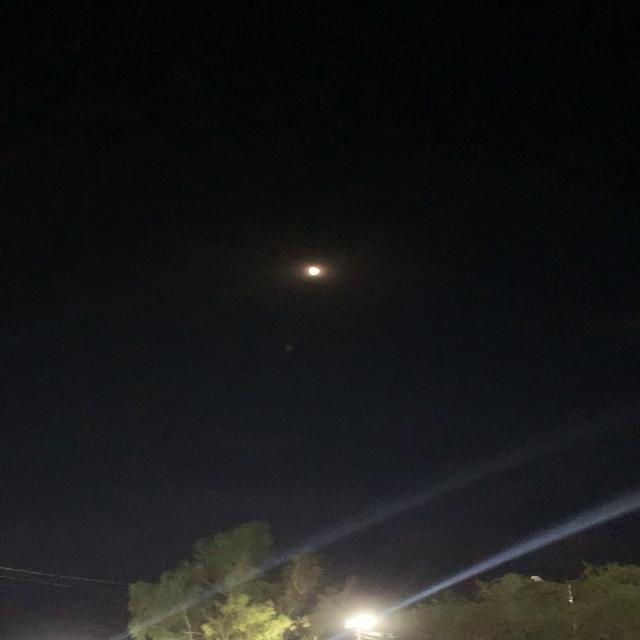moon: (286, 253, 338, 283)
